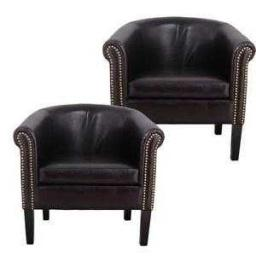Chair: (102, 18, 256, 161), (10, 103, 157, 246)
